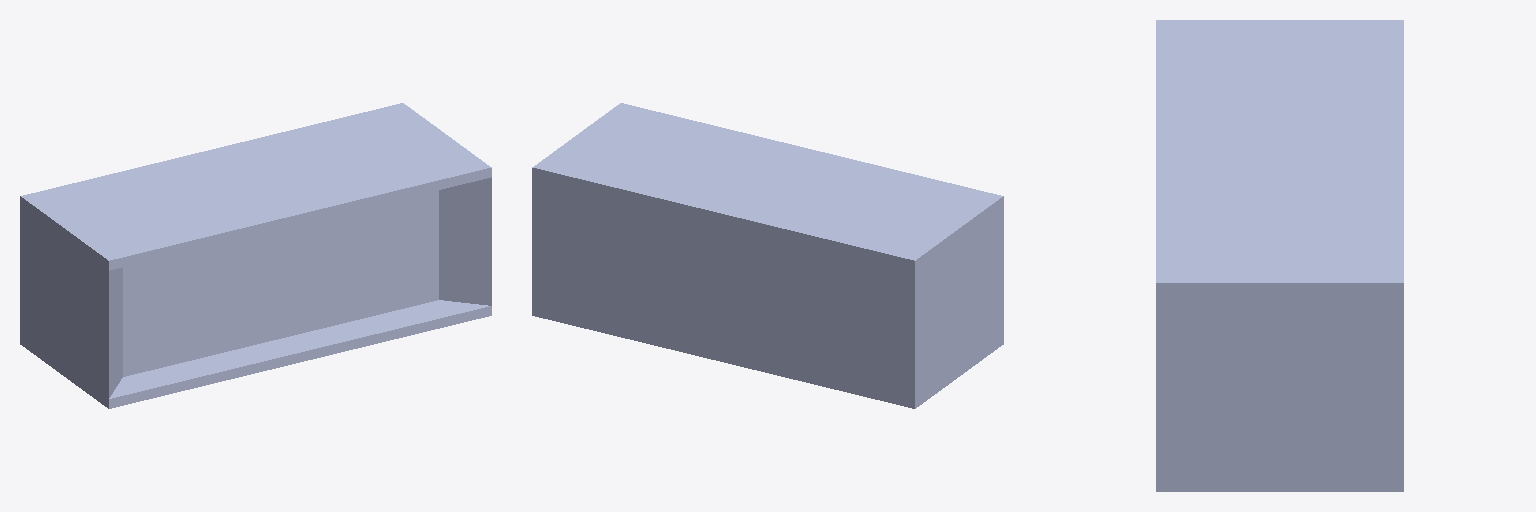
robot.urdf — house_combined_v1:
<?xml version="1.0" encoding="utf-8"?>
<!-- This URDF was automatically created by SolidWorks to URDF Exporter! Originally created by [author] ([email redacted]) 
     Commit Version: 1.6.0-1-g15f4949  Build Version: 1.6.7594.29634
     For more information, please see http://wiki.ros.org/sw_urdf_exporter -->
<robot
  name="house_combined_v1">
  <link
    name="base_link">
    <inertial>
      <origin
        xyz="4.05 2.16525520407071 1.5"
        rpy="0 0 0" />
      <mass
        value="43317.9226500504" />
      <inertia
        ixx="67695.8094190887"
        ixy="-7.60679400873056E-11"
        ixz="2.63114731597808E-12"
        iyy="325460.745406259"
        iyz="3.51057142529777E-12"
        izz="314958.41530629" />
    </inertial>
    <visual>
      <origin
        xyz="0 0 0"
        rpy="0 0 0" />
      <geometry>
        <mesh
          filename="package://house_combined_v1/meshes/base_link.STL" />
      </geometry>
      <material
        name="">
        <color
          rgba="0.792156862745098 0.819607843137255 0.933333333333333 1" />
      </material>
    </visual>
    <collision>
      <origin
        xyz="0 0 0"
        rpy="0 0 0" />
      <geometry>
        <mesh
          filename="package://house_combined_v1/meshes/base_link.STL" />
      </geometry>
    </collision>
  </link>
  <link
    name="window1">
    <inertial>
      <origin
        xyz="1.675 0.100000000000001 1.3"
        rpy="0 0 0" />
      <mass
        value="1742" />
      <inertia
        ixx="987.133333333334"
        ixy="-3.59046126163816E-15"
        ixz="-1.24332766304747E-13"
        iyy="2610.45958333334"
        iyz="-7.6864440738204E-16"
        izz="1634.93958333333" />
    </inertial>
    <visual>
      <origin
        xyz="0 0 0"
        rpy="0 0 0" />
      <geometry>
        <mesh
          filename="package://house_combined_v1/meshes/window1.STL" />
      </geometry>
      <material
        name="">
        <color
          rgba="0.792156862745098 0.819607843137255 0.933333333333333 1" />
      </material>
    </visual>
    <collision>
      <origin
        xyz="0 0 0"
        rpy="0 0 0" />
      <geometry>
        <mesh
          filename="package://house_combined_v1/meshes/window1.STL" />
      </geometry>
    </collision>
  </link>
  <joint
    name="window1_joint"
    type="fixed">
    <origin
      xyz="0.700000000000023 0.700000000000029 0.2"
      rpy="0 0 0" />
    <parent
      link="base_link" />
    <child
      link="window1" />
    <axis
      xyz="0 0 0" />
  </joint>
  <link
    name="window2">
    <inertial>
      <origin
        xyz="-1.675 0.0999999999999996 1.3"
        rpy="0 0 0" />
      <mass
        value="1742" />
      <inertia
        ixx="987.133333333334"
        ixy="3.71850698381133E-15"
        ixz="1.45531734811282E-14"
        iyy="2610.45958333334"
        iyz="-7.68644407382278E-16"
        izz="1634.93958333333" />
    </inertial>
    <visual>
      <origin
        xyz="0 0 0"
        rpy="0 0 0" />
      <geometry>
        <mesh
          filename="package://house_combined_v1/meshes/window2.STL" />
      </geometry>
      <material
        name="">
        <color
          rgba="0.792156862745098 0.819607843137255 0.933333333333333 1" />
      </material>
    </visual>
    <collision>
      <origin
        xyz="0 0 0"
        rpy="0 0 0" />
      <geometry>
        <mesh
          filename="package://house_combined_v1/meshes/window2.STL" />
      </geometry>
    </collision>
  </link>
  <joint
    name="window2_joint"
    type="fixed">
    <origin
      xyz="7.4 0.7 0.199999999999999"
      rpy="0 0 0" />
    <parent
      link="base_link" />
    <child
      link="window2" />
    <axis
      xyz="0 0 0" />
  </joint>


<gazebo>
    <static>true</static>
</gazebo>

</robot>

--- What the picture shows (computed from the rendered views, not written in the file) ---
Views: 3 orthographic renders of the robot side by side, from view 1: azimuth 30°, elevation 25°; view 2: azimuth 150°, elevation 25°; view 3: azimuth 270°, elevation 25°.
Model house_combined_v1 with 3 links and 2 joints (2 fixed), rooted at base_link, posed every joint at zero.
Visible links, largest first — view 1: base_link, window1, window2; view 2: base_link; view 3: base_link.
Link boxes in pixels (x1=…): base_link: x1=20, y1=103, x2=491, y2=408; window1: x1=123, y1=229, x2=280, y2=376; window2: x1=281, y1=190, x2=438, y2=338; base_link: x1=532, y1=103, x2=1003, y2=408; base_link: x1=1156, y1=20, x2=1403, y2=491.
Bounding box of the posed robot: 8.1 × 3.24 × 3 m (x, y, z).
3 mesh visuals loaded from 3 distinct referenced files (3 binary STL).